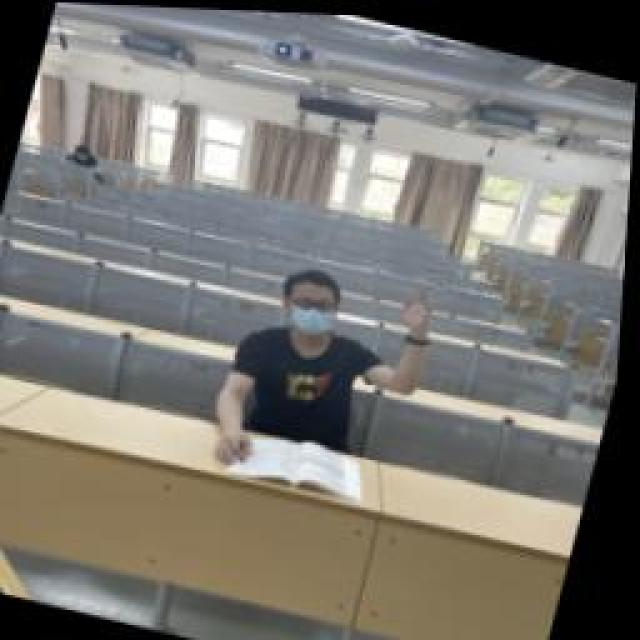study: (202, 242, 452, 500)
